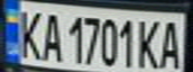0: (100, 15, 121, 67)
1: (115, 15, 136, 69), (63, 11, 84, 64)
7: (81, 12, 100, 65)
A: (157, 16, 187, 70), (36, 7, 63, 62)
K: (12, 6, 45, 61), (136, 16, 163, 70)
